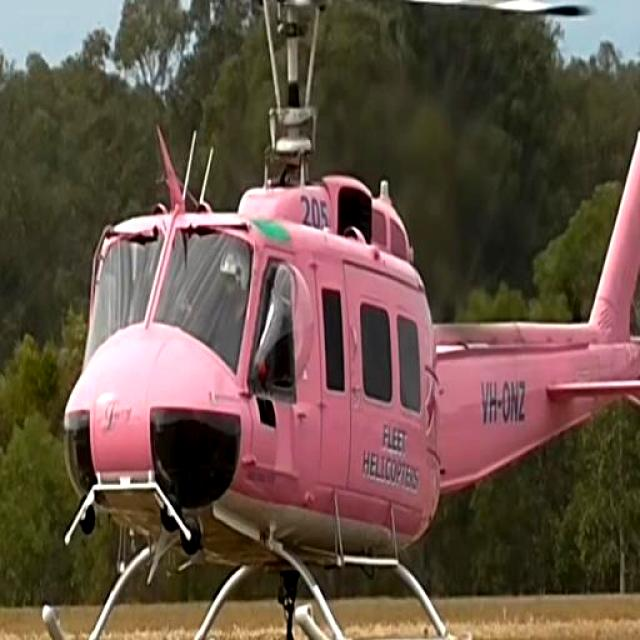drone: (22, 0, 640, 640)
